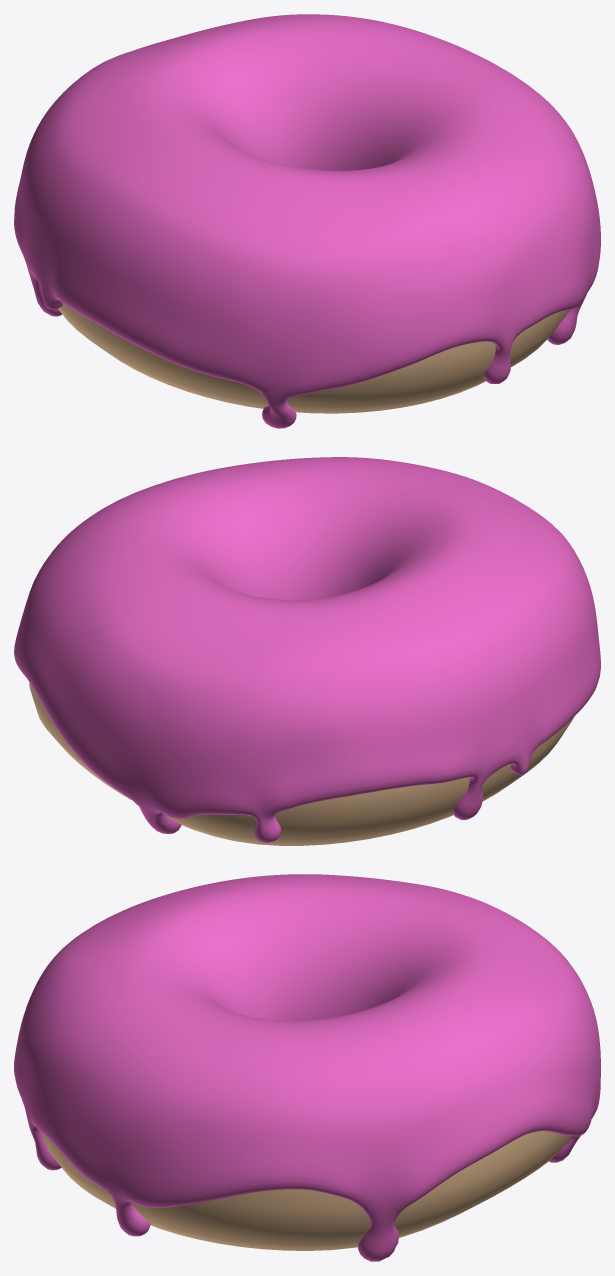
File: donut.glb
3 views of the same model, one above another, from view 1: azimuth 30°, elevation 25°; view 2: azimuth 150°, elevation 25°; view 3: azimuth 270°, elevation 25° (orthographic). The views are drawn at different scales.
Visible parts, largest first — view 1: Icing.001, Donut.002; view 2: Icing.001, Donut.002; view 3: Icing.001, Donut.002.
Boxes of the visible parts, x1=… form: Icing.001: x1=14, y1=14, x2=600, y2=428; Donut.002: x1=58, y1=303, x2=570, y2=413; Icing.001: x1=14, y1=457, x2=600, y2=842; Donut.002: x1=29, y1=682, x2=574, y2=845; Icing.001: x1=14, y1=874, x2=600, y2=1261; Donut.002: x1=42, y1=1131, x2=571, y2=1250.
Bounding box in the file's own units: 1.83 × 0.7961 × 1.92.
